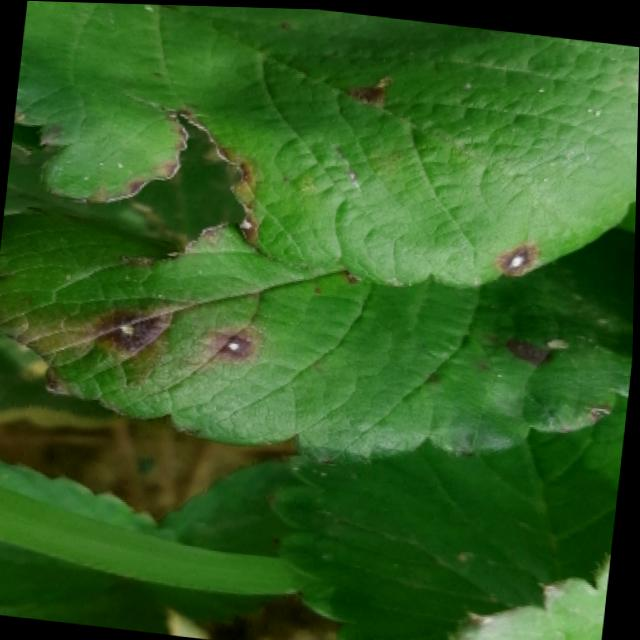Leaf Spot: (14, 1, 640, 284), (0, 210, 636, 460)
